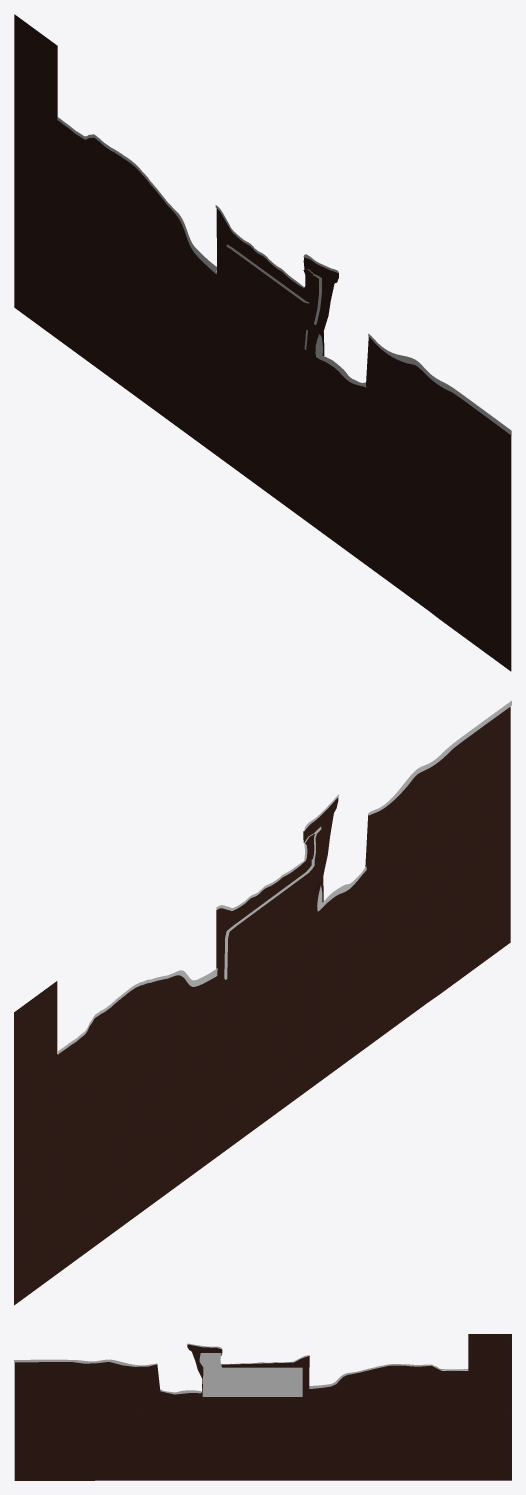
The model's file is level0.fbx.
The picture shows the model from 3 angles, top to bottom: view 1: azimuth 30°, elevation 25°; view 2: azimuth 150°, elevation 25°; view 3: azimuth 270°, elevation 25°; orthographic projection. The views are drawn at different scales.
Visible parts, largest first — view 1: BaseDirt, CaveCover, Road; view 2: BaseDirt, CaveCover, Road, CaveIn; view 3: BaseDirt, CaveIn, Road.
Boxes of the visible parts, <box> form: BaseDirt: <box>14,14,511,671</box>; CaveCover: <box>219,245,318,357</box>; Road: <box>57,117,511,435</box>; BaseDirt: <box>14,707,510,1305</box>; CaveCover: <box>224,827,324,986</box>; Road: <box>58,700,511,1054</box>; CaveIn: <box>224,826,322,978</box>; BaseDirt: <box>14,1334,511,1480</box>; CaveIn: <box>199,1353,302,1396</box>; Road: <box>14,1343,468,1394</box>.
Bounding box in the file's own units: 26.95 × 2382 × 7316.
